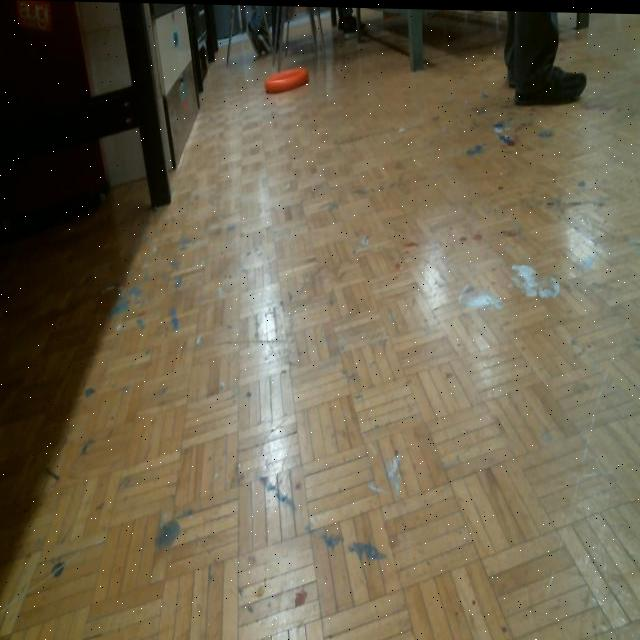note: (266, 61, 312, 94)
